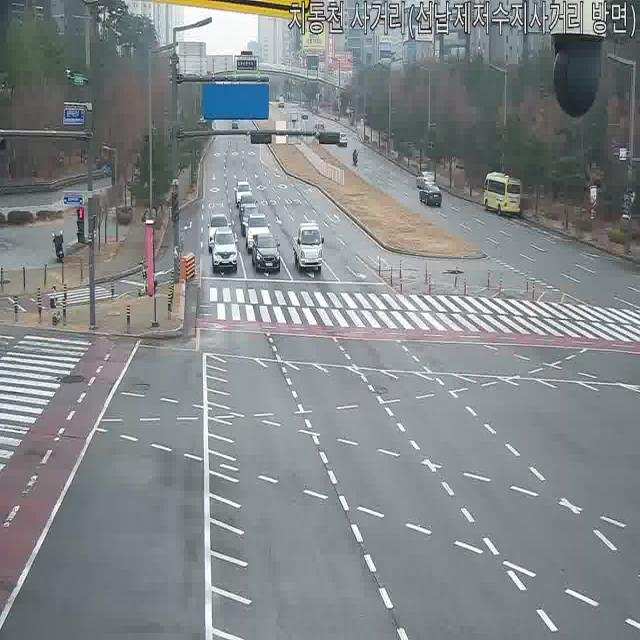Bus: (482, 172, 524, 216)
Car: (482, 172, 524, 216), (210, 228, 238, 274), (251, 232, 281, 274), (244, 213, 272, 252), (206, 213, 232, 251), (418, 182, 443, 208), (239, 206, 260, 236), (239, 193, 259, 220), (235, 180, 252, 208), (416, 170, 436, 188), (313, 122, 326, 140), (337, 132, 348, 148), (289, 110, 298, 124), (299, 109, 309, 119), (277, 97, 285, 109)
Motorcycle: (352, 149, 359, 166)
Truck: (294, 222, 324, 273)
